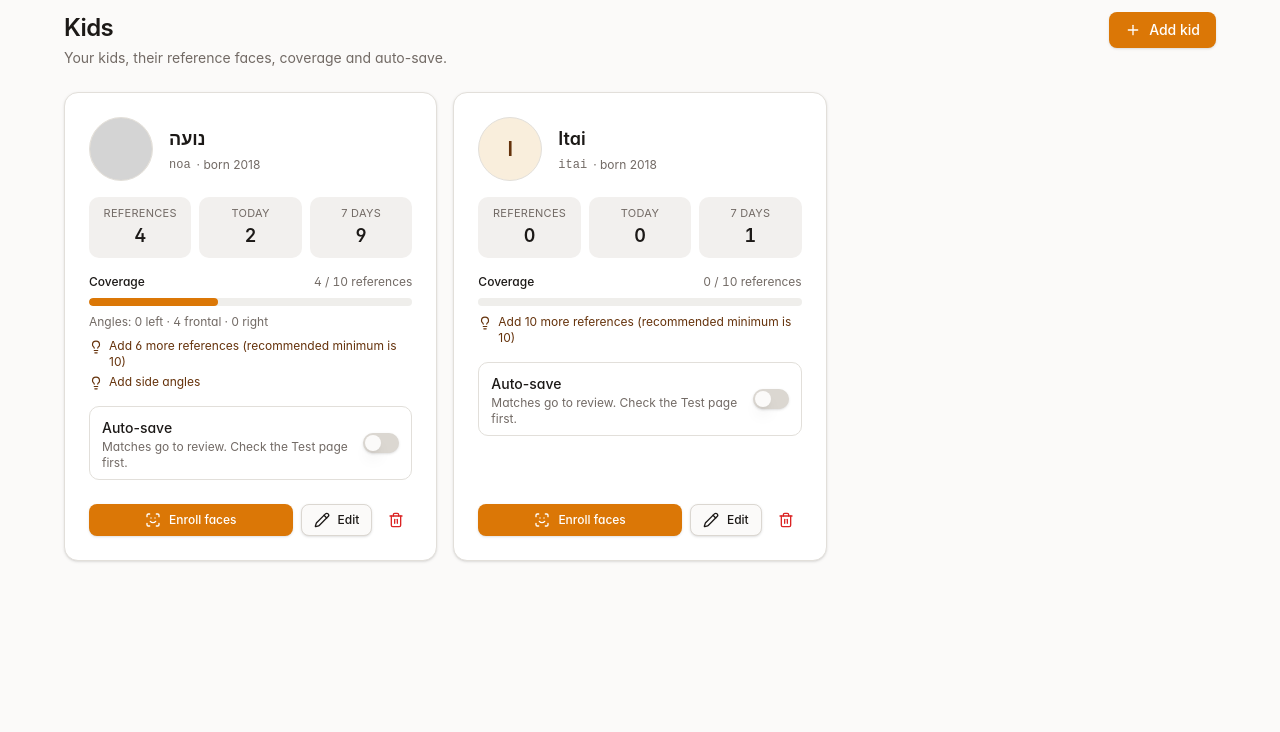
it: KidsPage › toggles auto-save
Click the switch named "Auto-save" below "Add side angles": coordinates (381, 442) [363,432,399,452]
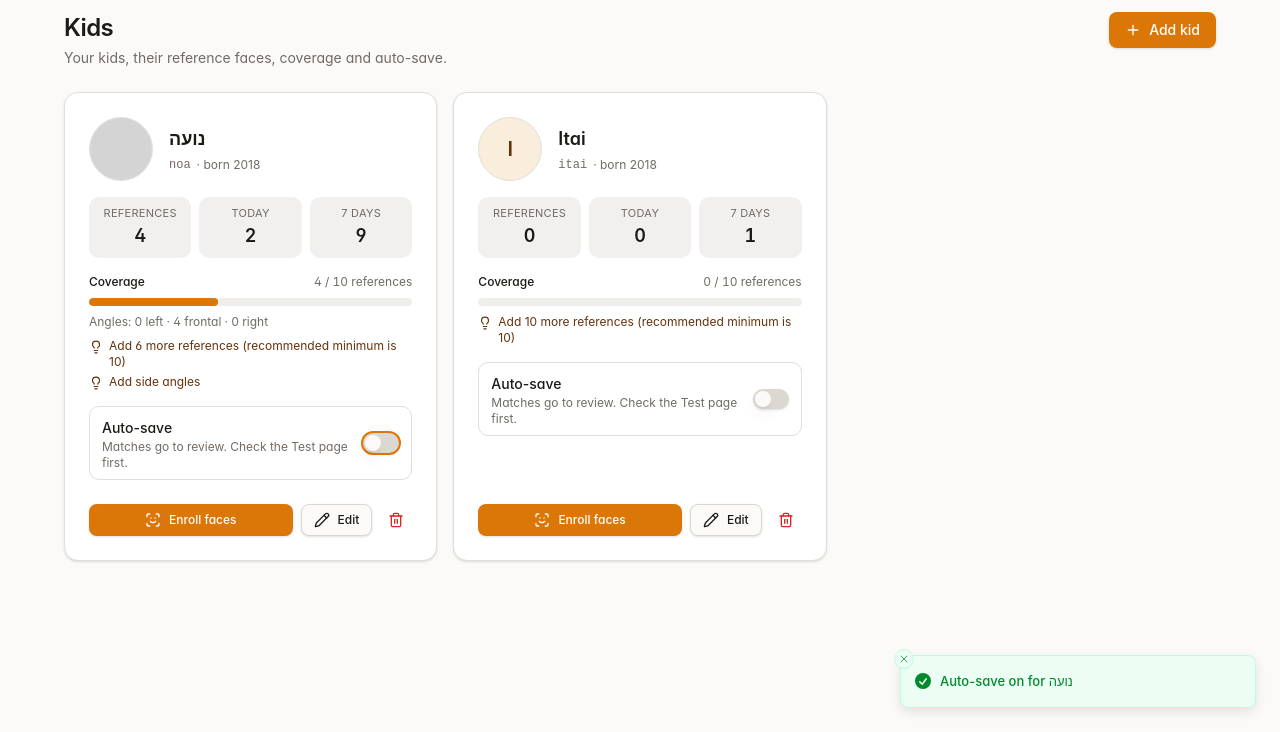
Check: the text "Auto-save on for נועה" is shown, box [940,672,1073,691]
